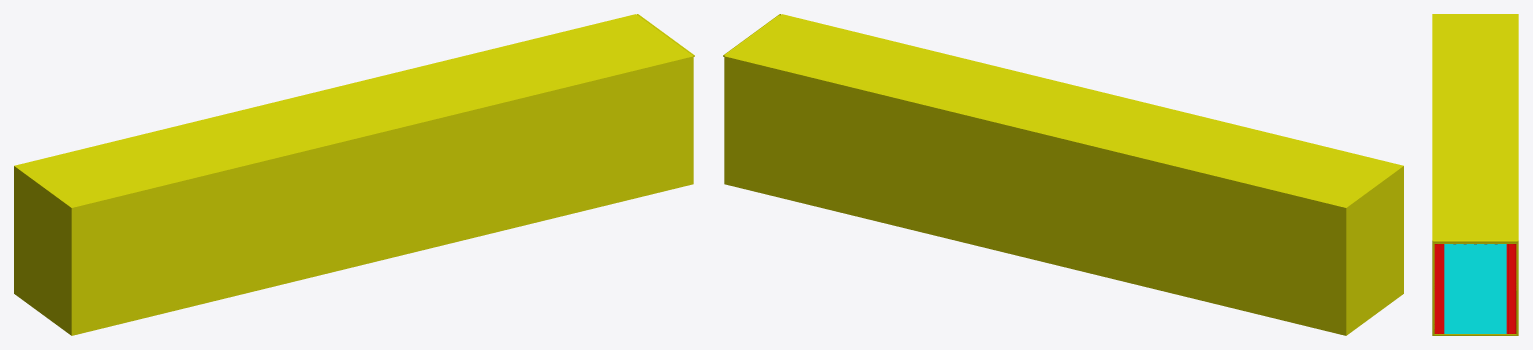
Rendered from truck_trailer.fbx.
3 renders of one model, left to right at view 1: azimuth 30°, elevation 25°; view 2: azimuth 150°, elevation 25°; view 3: azimuth 270°, elevation 25°, orthographic. The views are drawn at different scales.
Parts seen in each view (by area): view 1: trailer_outter_01; view 2: trailer_outter_01; view 3: trailer_outter_01, trailer_ceiling_floor_01, trailer_railing_01.
Boxes of the visible parts, bbox=[...] form: trailer_outter_01: bbox=[14, 14, 694, 335]; trailer_outter_01: bbox=[723, 14, 1403, 335]; trailer_outter_01: bbox=[1432, 14, 1518, 335]; trailer_ceiling_floor_01: bbox=[1444, 244, 1506, 333]; trailer_railing_01: bbox=[1434, 244, 1516, 333].
Size of the model in its own units: 1720 by 338 by 276.
